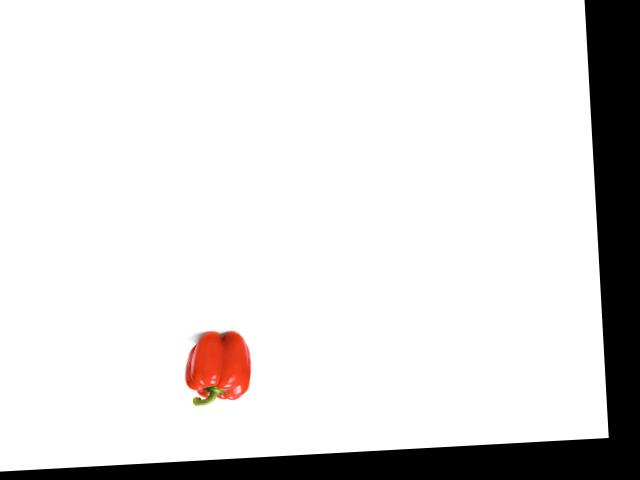bell_pepper: (182, 328, 254, 407)
